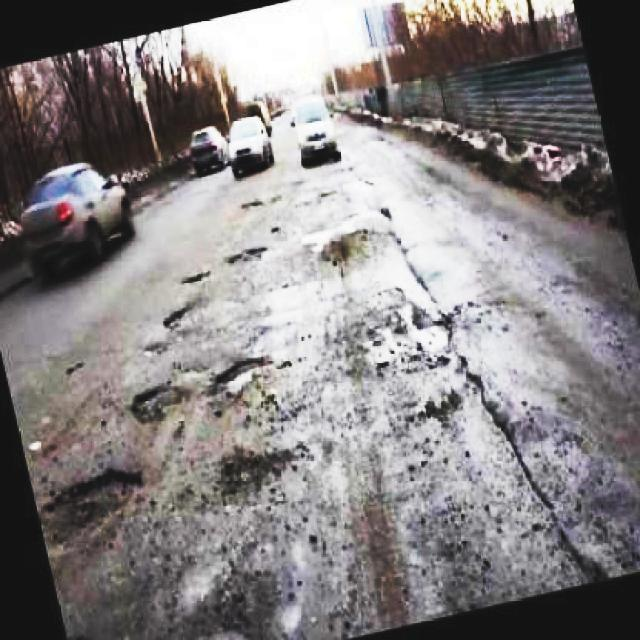pothole: (41, 468, 148, 530), (365, 318, 460, 372), (211, 355, 269, 403), (132, 384, 166, 424), (162, 304, 188, 334)
